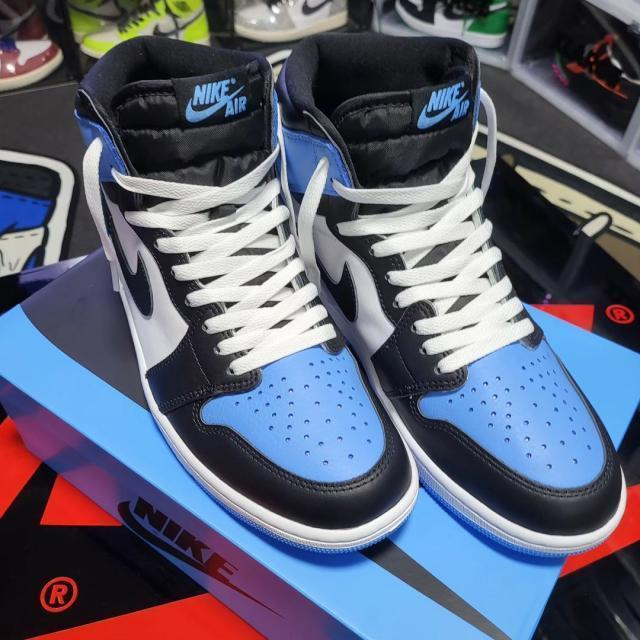nike original jordan 1: (274, 25, 626, 563), (76, 38, 422, 558)
